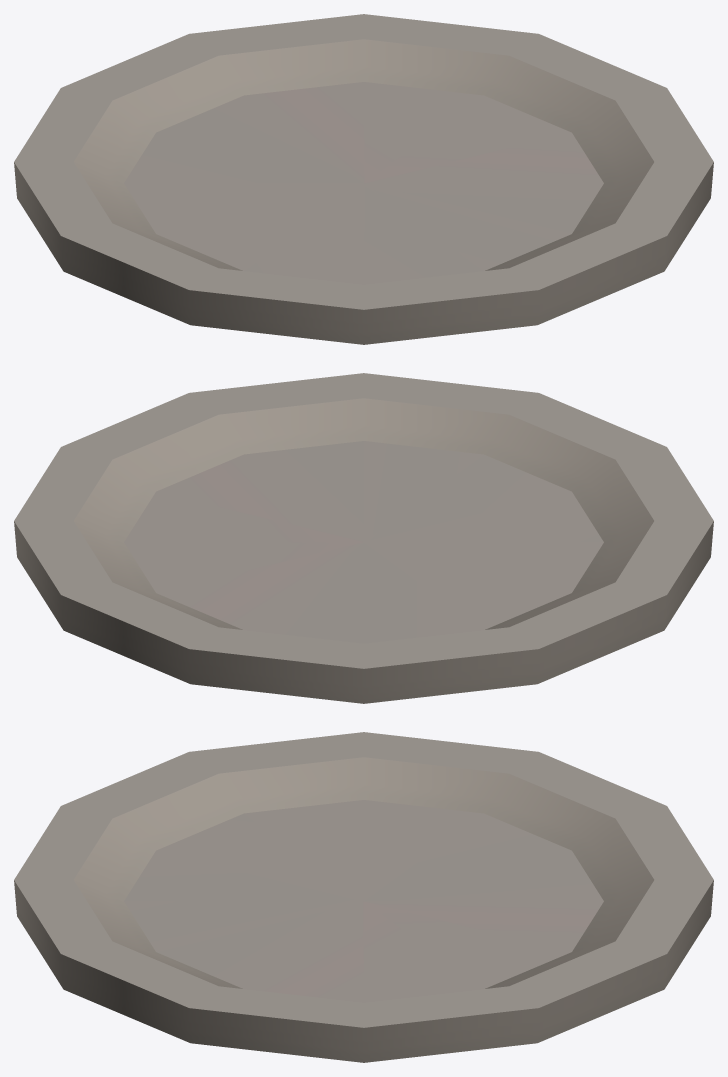
The model's file is kaykit-dungeon-remastered-plate-gltf.glb.
3 renders of one model, top to bottom at view 1: azimuth 30°, elevation 25°; view 2: azimuth 150°, elevation 25°; view 3: azimuth 270°, elevation 25°, orthographic.
Parts seen in each view (by area): view 1: plate; view 2: plate; view 3: plate.
Boxes of the visible parts, x1,y1,x2,y2 form: plate: (14, 14, 713, 344); plate: (14, 373, 713, 703); plate: (14, 732, 713, 1062).
Bounding box in the file's own units: 0.9706 × 0.1294 × 0.9706.
Materials: 1 (1 with a texture image).
